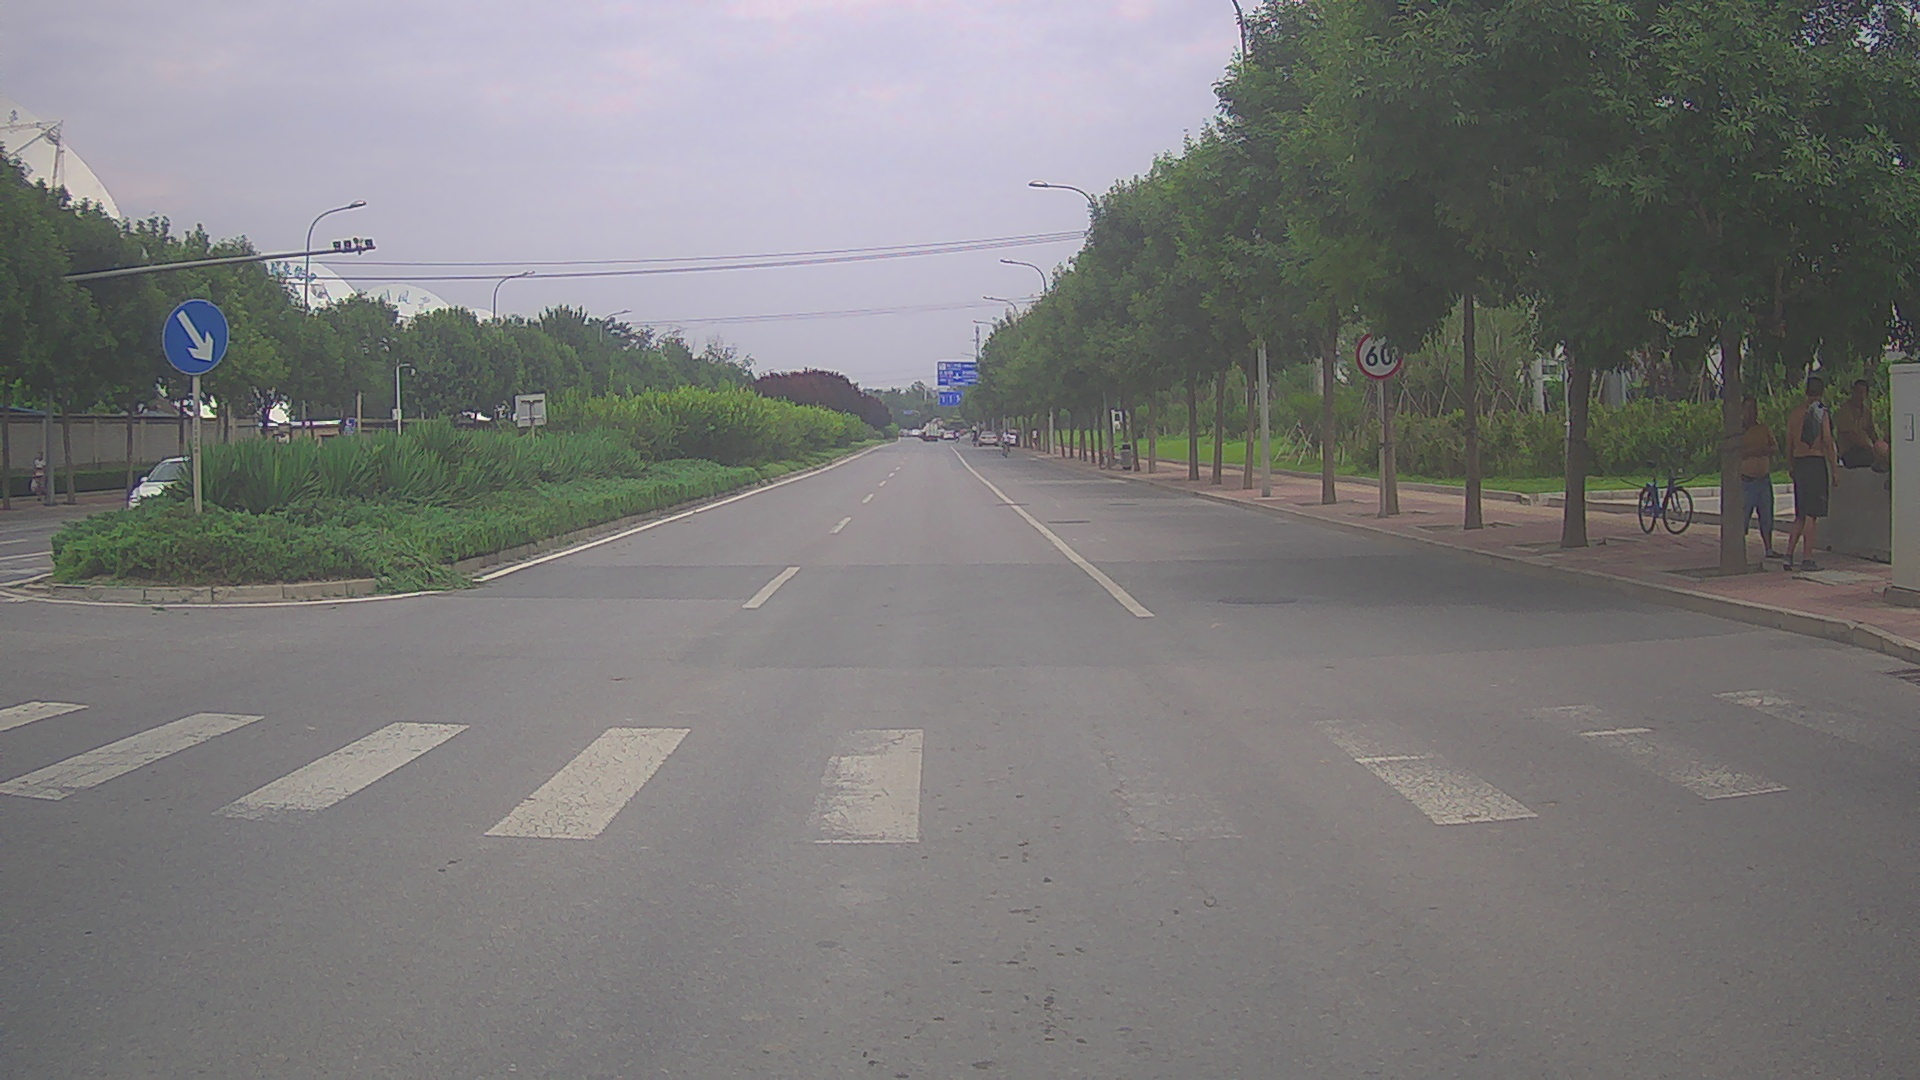car: (128, 456, 226, 521), (1002, 429, 1020, 446), (978, 430, 998, 446), (943, 429, 955, 441)
cyclist: (1000, 428, 1011, 457), (970, 425, 979, 447), (954, 428, 960, 444)
ignore: (898, 427, 921, 436), (937, 426, 945, 439), (959, 427, 967, 436)
pedestrian: (1782, 377, 1840, 571), (1729, 396, 1783, 558), (1831, 379, 1880, 506), (30, 450, 48, 502), (1031, 426, 1038, 448), (1015, 430, 1021, 448)
truck: (922, 423, 938, 441)
